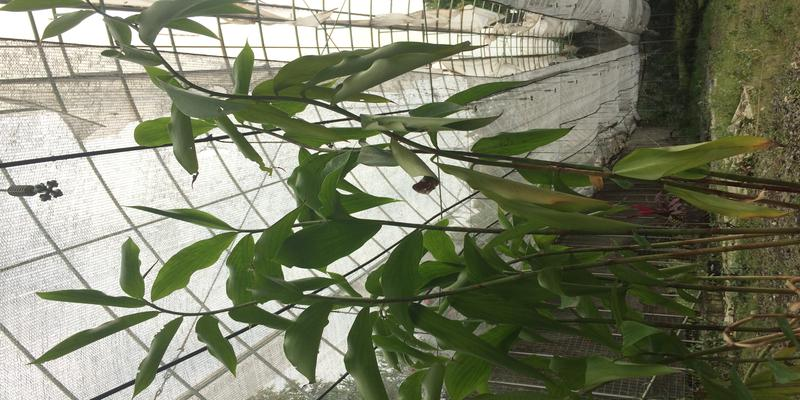Insulin: (152, 54, 762, 370)
